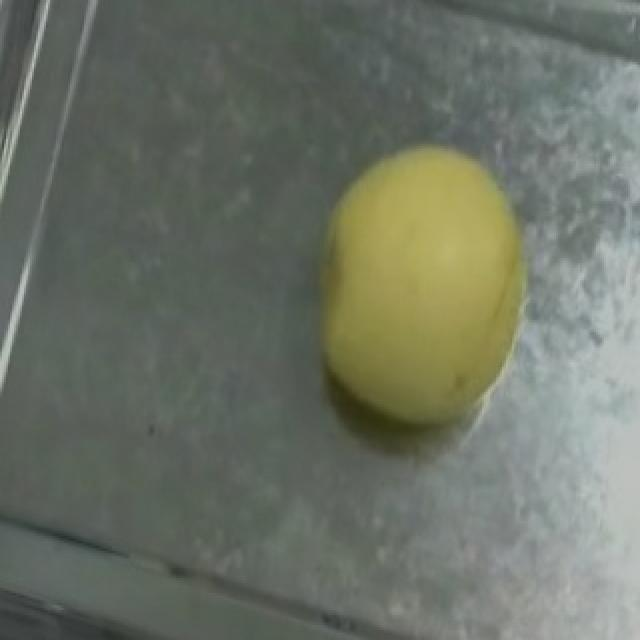Fruit: (266, 114, 562, 457)
